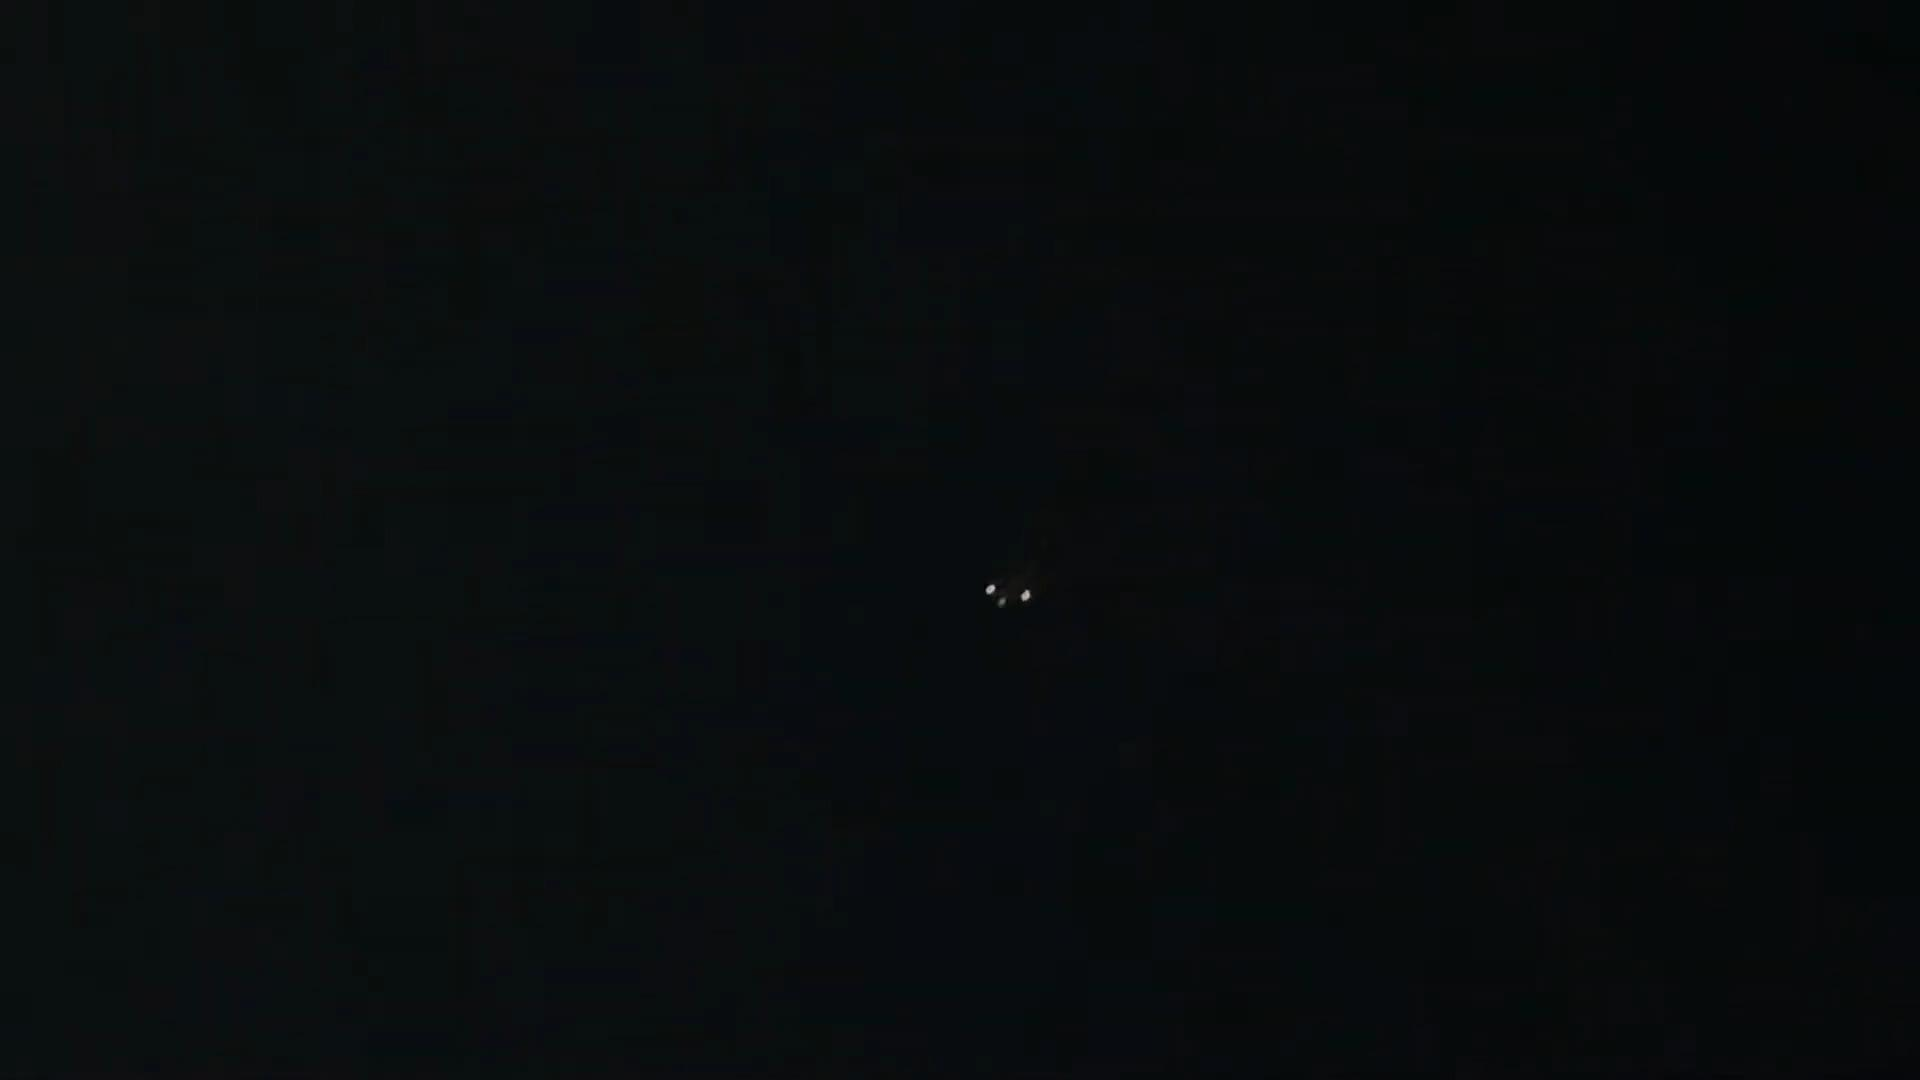Plane: (959, 571, 1098, 616)
